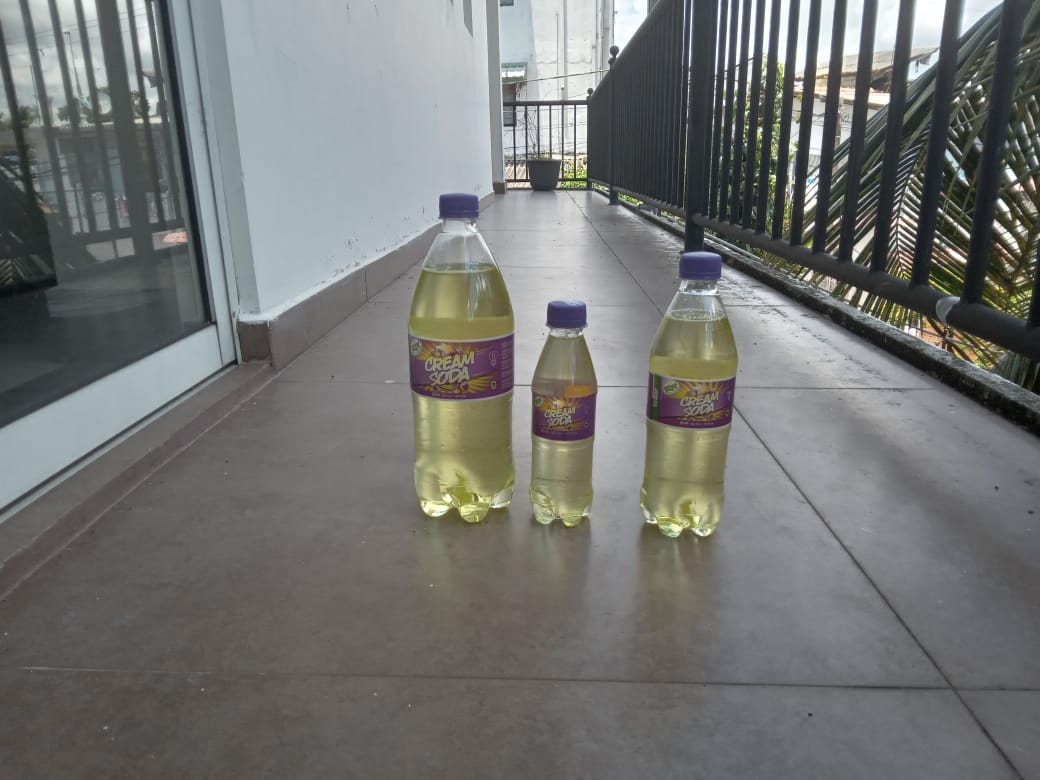M: (404, 194, 515, 524)
S: (638, 251, 741, 541)
Xs: (525, 301, 600, 525)
